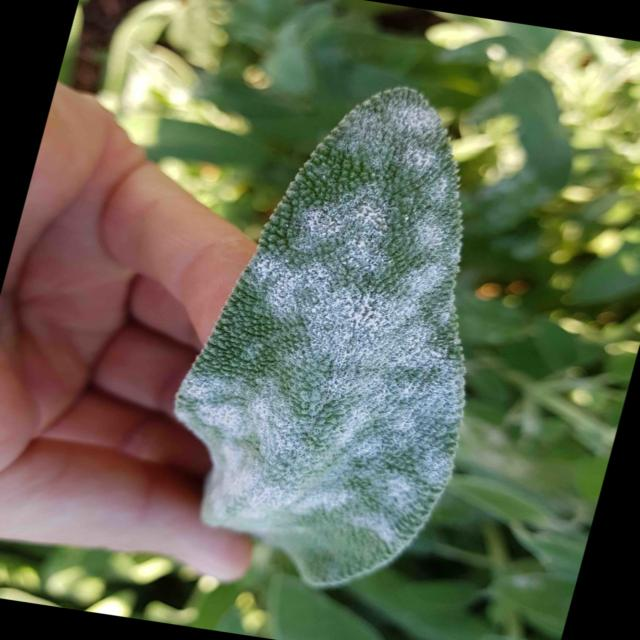Powdery Mildew: (172, 85, 468, 589)
